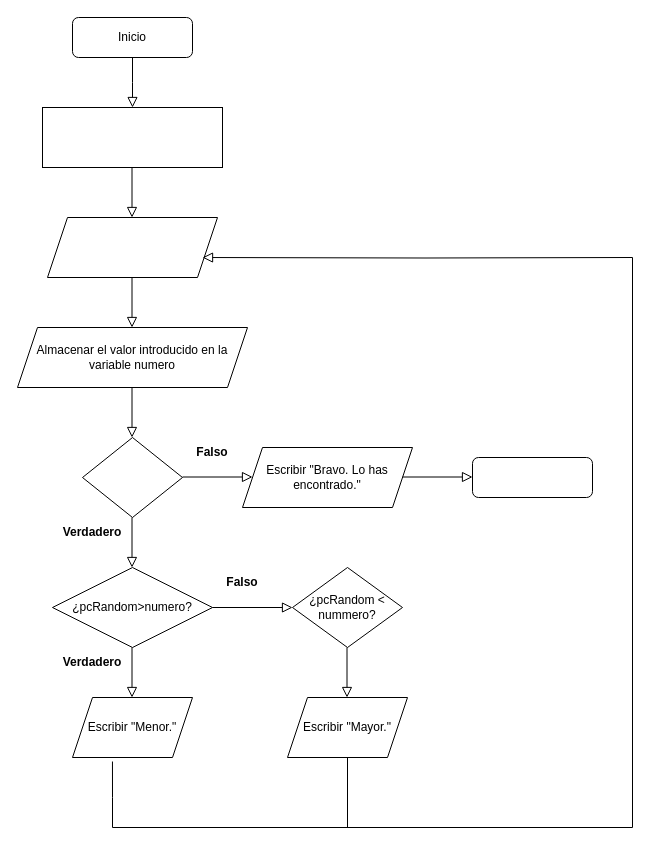
Some shapes in this 660 by 846 pixel diagram are drawn without their labels. The centre of each missing label's shape, as x and y in pixels:
Crear una nueva variable pcRandom que almacene un número aleatoria entre 1 y 100: [132,137]
Escribir "¿En qué número estoy pensando?: [132,247]
Fin: [532,477]
¿pcRandom != numero?: [132,477]
